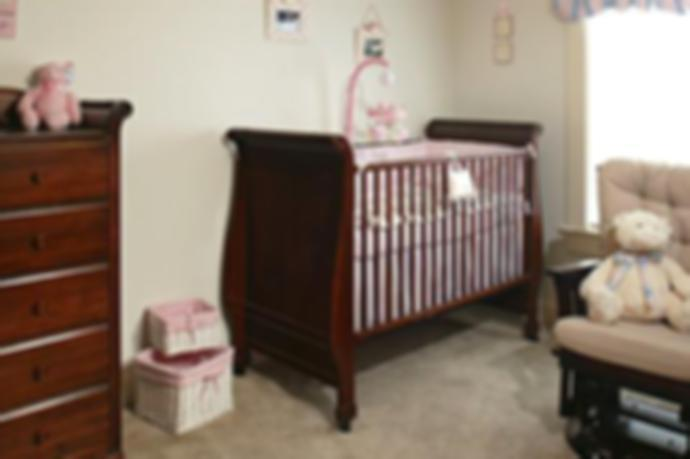Armario: (0, 132, 123, 459)
Otro Obstaculo: (138, 308, 248, 442)
